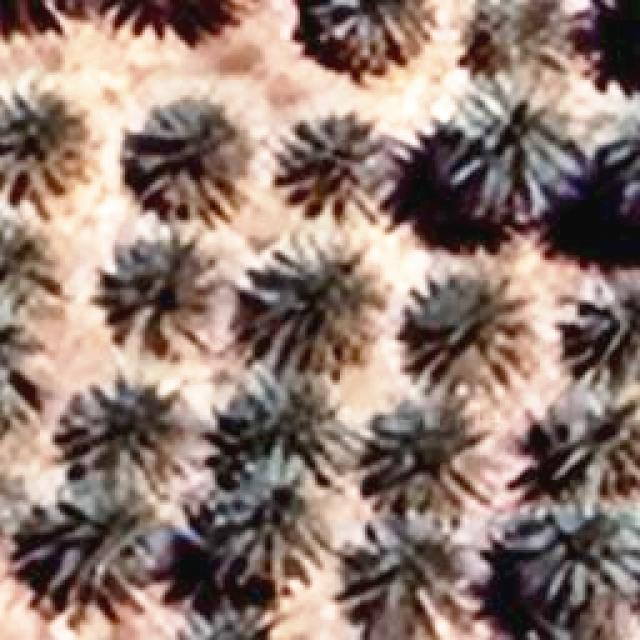PalmTree: (125, 125, 282, 450), (226, 235, 385, 382), (236, 235, 384, 378), (24, 479, 172, 612), (397, 268, 538, 402), (445, 82, 577, 225), (204, 450, 334, 592), (49, 369, 197, 493), (201, 450, 332, 590), (396, 269, 535, 400), (358, 394, 495, 526), (334, 510, 470, 640), (23, 479, 169, 599), (52, 371, 190, 497), (90, 230, 222, 360), (339, 508, 468, 637), (355, 405, 488, 528), (443, 84, 560, 223), (124, 96, 247, 225), (94, 234, 218, 359), (502, 498, 639, 610), (508, 498, 640, 611), (212, 365, 361, 460), (0, 80, 104, 216), (270, 110, 390, 226), (215, 367, 358, 464), (278, 111, 381, 224), (535, 385, 639, 494), (546, 379, 640, 498), (554, 282, 640, 391), (310, 0, 437, 70), (552, 282, 637, 385), (0, 294, 50, 444), (0, 214, 67, 322), (170, 601, 291, 640), (609, 96, 640, 236), (97, 0, 232, 29), (502, 611, 628, 640), (0, 0, 89, 34), (619, 102, 640, 221), (504, 620, 626, 640)
